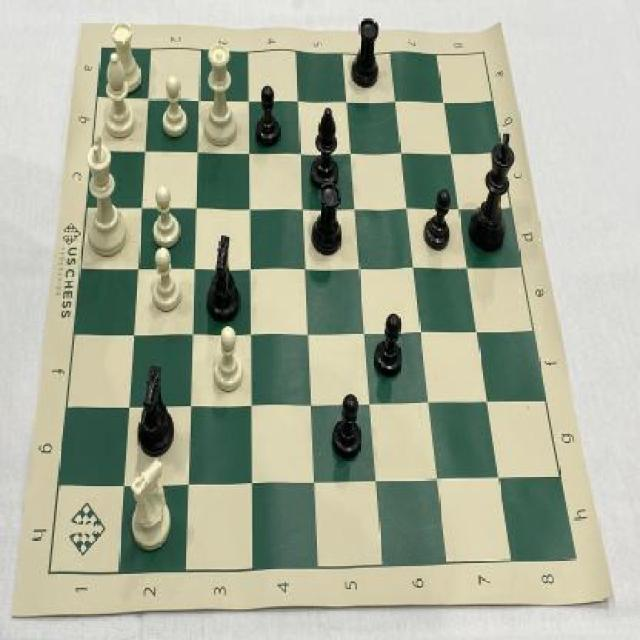bishop: (304, 98, 344, 197)
black-bishop: (466, 128, 521, 257)
black-king: (202, 225, 248, 327), (132, 360, 178, 460)
black-knight: (329, 390, 366, 462), (372, 311, 407, 383), (422, 183, 456, 255), (252, 77, 284, 148)
black-queen: (308, 182, 348, 262), (348, 11, 386, 94)
black-rook: (102, 49, 142, 142)
white-bishop: (83, 131, 131, 262)
white-king: (126, 452, 180, 556)
white-knight: (146, 243, 186, 315), (211, 323, 249, 397), (157, 69, 191, 139), (148, 182, 182, 250)
white-pawn: (198, 37, 242, 152)
white-queen: (106, 17, 147, 100)
